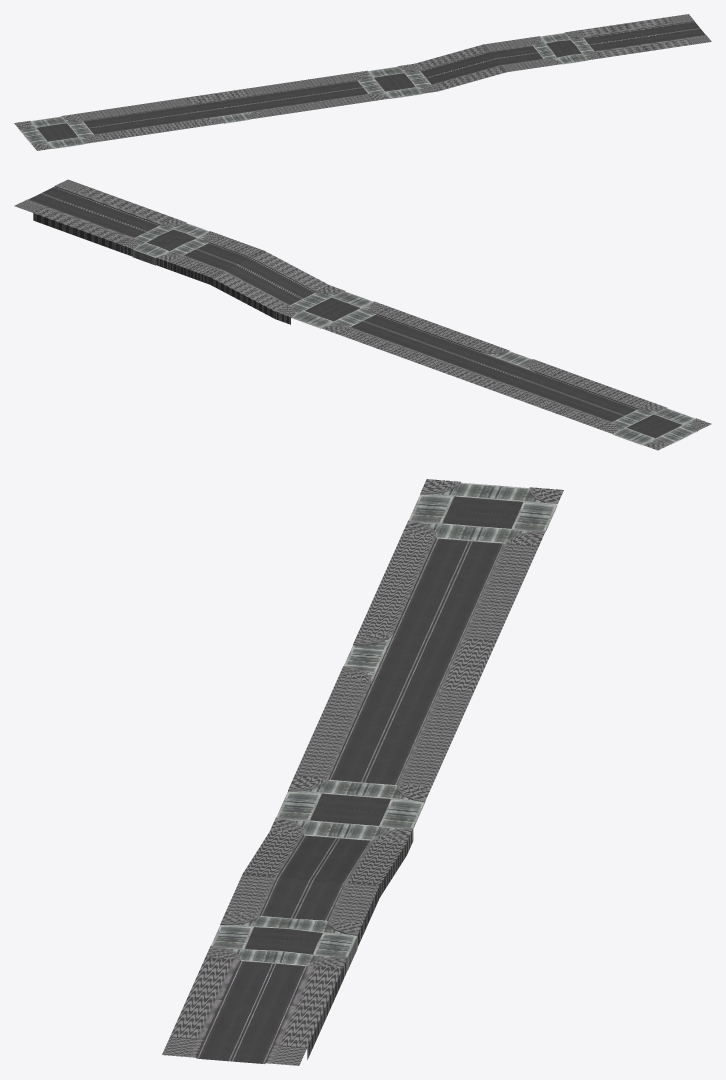
The model's file is roadssfs11.obj.
3 views of the same model, one above another, from view 1: azimuth 30°, elevation 25°; view 2: azimuth 150°, elevation 25°; view 3: azimuth 270°, elevation 25° (orthographic). The views are drawn at different scales.
Visible parts, largest first — view 1: ROADSsfs11; view 2: ROADSsfs11; view 3: ROADSsfs11.
Part boxes in pixels (bbox=[...]): ROADSsfs11: bbox=[14, 14, 711, 150]; ROADSsfs11: bbox=[14, 179, 711, 450]; ROADSsfs11: bbox=[162, 479, 563, 1065].
Size of the model in its own units: 205 by 4.92 by 57.55.
Materials: 3 (3 with a texture image).
